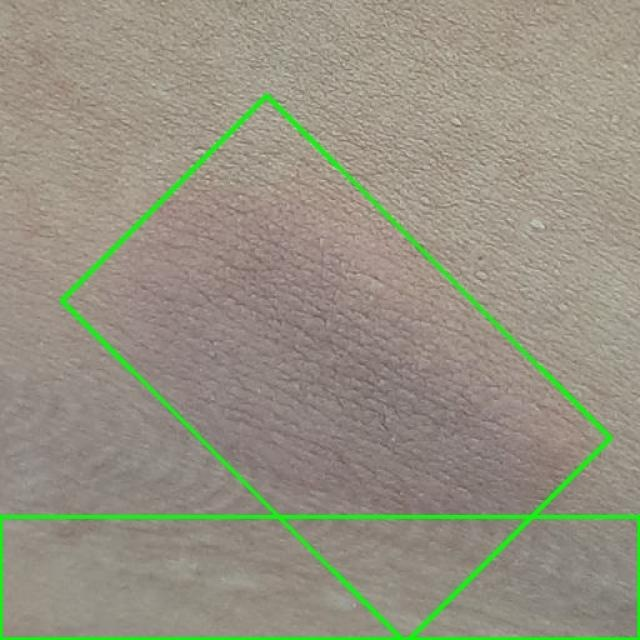Tinea Corporis: (62, 96, 610, 640), (0, 516, 639, 639)
